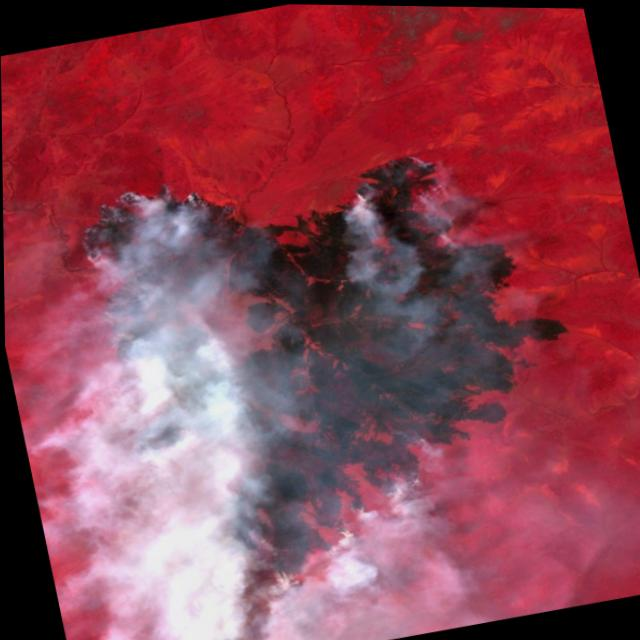fire: (66, 127, 525, 616)
